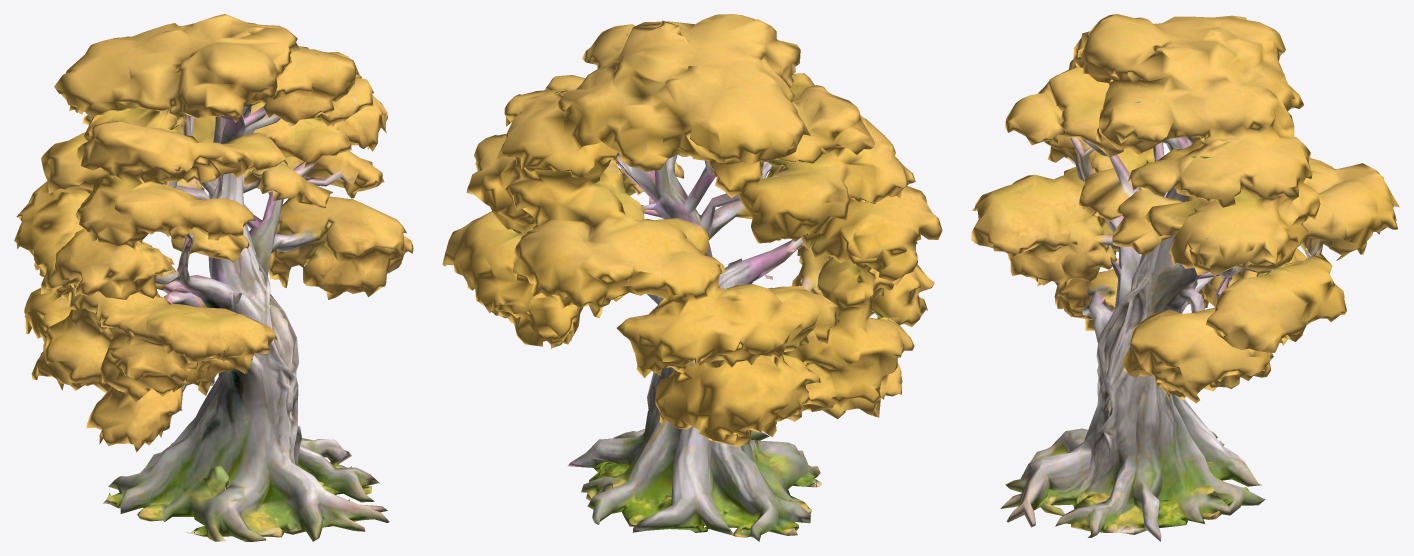
The model's file is mallorn-tree-1.glb.
The picture shows the model from 3 angles, left to right: view 1: azimuth 30°, elevation 25°; view 2: azimuth 150°, elevation 25°; view 3: azimuth 270°, elevation 25°; orthographic projection. The views are drawn at different scales.
Bounding box in the file's own units: 1.72 × 1.91 × 1.65.
1 material, 1 textured.
